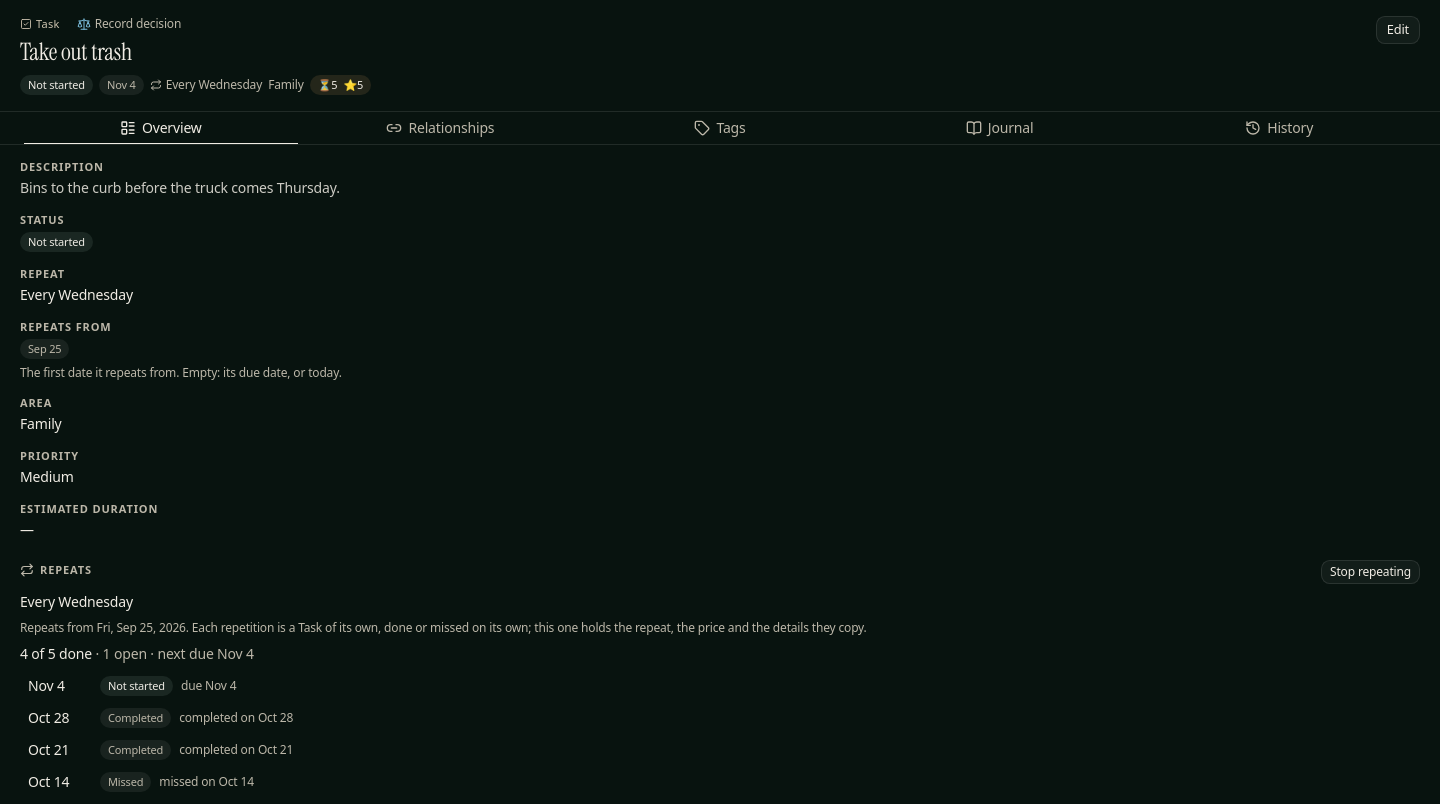
Test: SubjectDetail repeating tasks (TASKS-3) › offers Stop repeating on the series, which has no timer
Click the button "Stop repeating".
click(1370, 572)  # box x1=1321 y1=560 x2=1420 y2=584
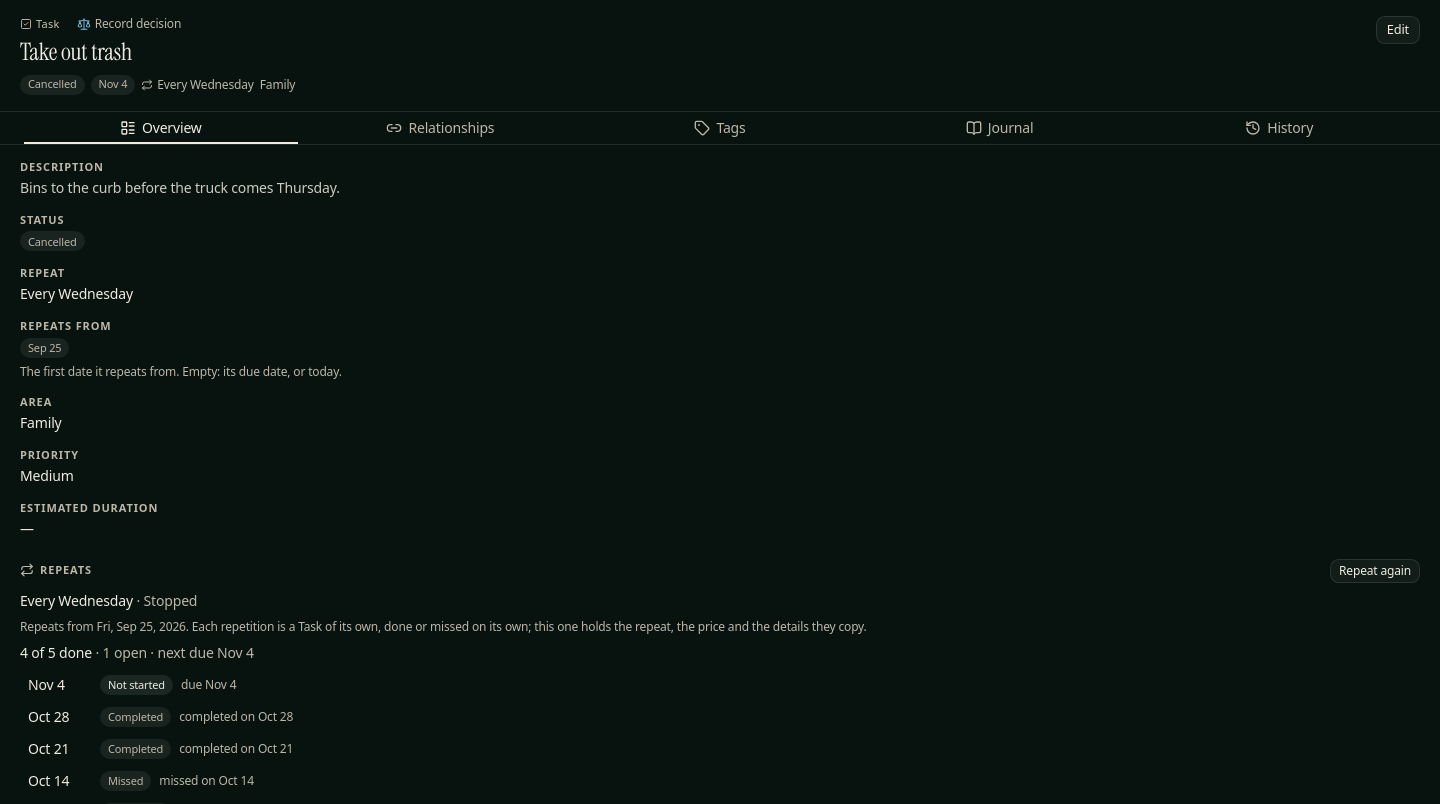
Check: the text "Cancelled" below "Take out trash" is shown, box x1=28 y1=76 x2=77 y2=91
Check: the button "Repeat again" is shown, box x1=1330 y1=559 x2=1420 y2=583
